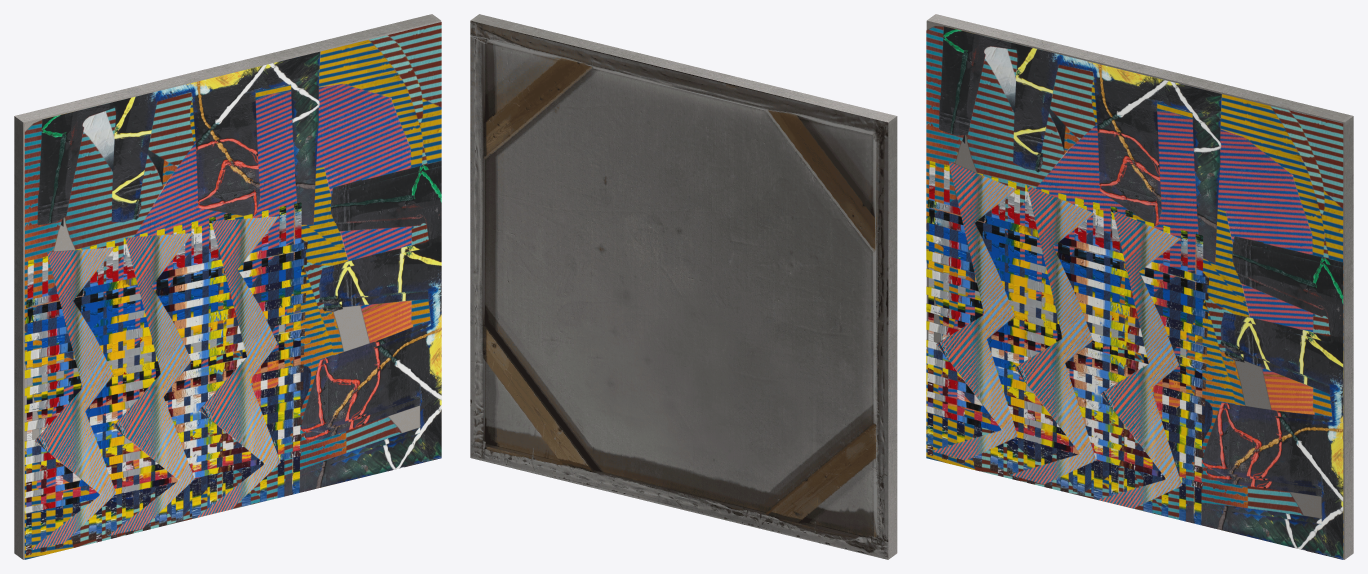
Rendered from uninspired-a4988425.glb.
3 renders of one model, left to right at view 1: azimuth 30°, elevation 25°; view 2: azimuth 150°, elevation 25°; view 3: azimuth 330°, elevation 25°, orthographic.
Parts seen in each view (by area): view 1: Canvas, stretcher; view 2: stretcher; view 3: Canvas, stretcher.
Boxes of the visible parts, x1,y1,x2,y2 form: Canvas: (24,22,441,559); stretcher: (14,14,441,559); stretcher: (470,14,897,559); Canvas: (926,26,1343,559); stretcher: (926,14,1353,559).
Size of the model in its own units: 3.04 by 3.04 by 0.1252.
Materials: 3 (3 with a texture image).
